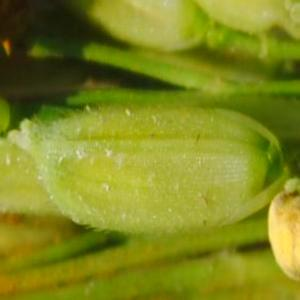Leaf_Scald: (273, 184, 297, 277)
